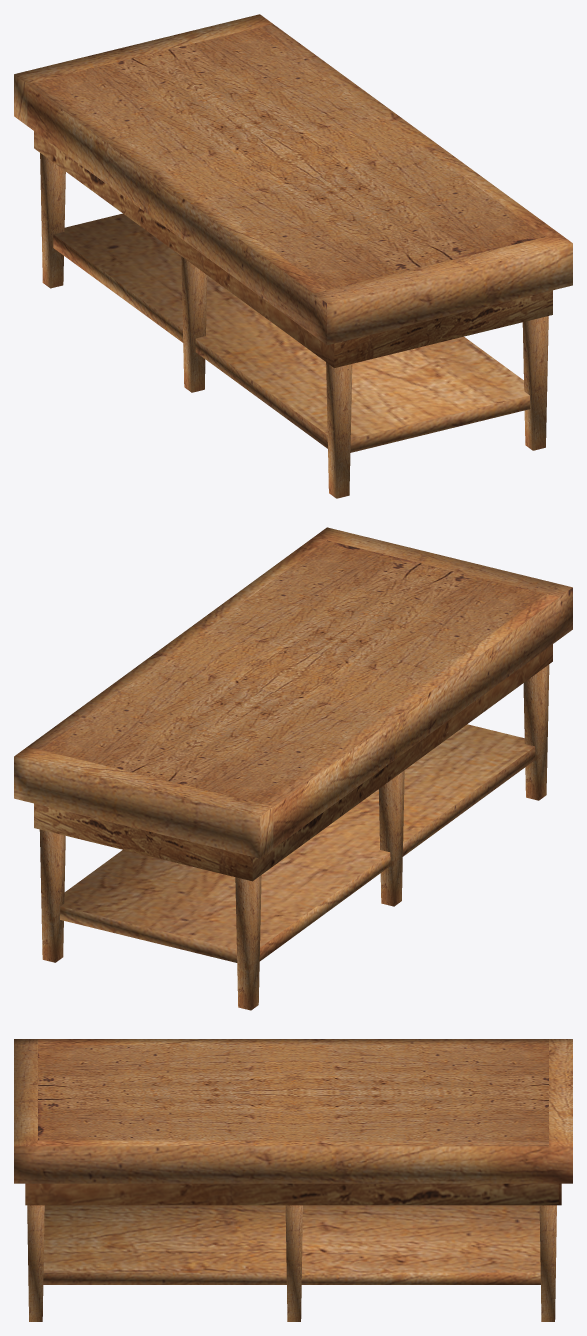
File: Table_rough.fbx
3 renders of one model, top to bottom at view 1: azimuth 30°, elevation 25°; view 2: azimuth 150°, elevation 25°; view 3: azimuth 270°, elevation 25°, orthographic. The views are drawn at different scales.
Parts seen in each view (by area): view 1: WorkTable; view 2: WorkTable; view 3: WorkTable.
Boxes of the visible parts, x1,y1,x2,y2 form: WorkTable: [14, 14, 572, 498]; WorkTable: [14, 527, 572, 1010]; WorkTable: [14, 1039, 572, 1321].
Bounding box in the file's own units: 90.71 × 72.6 × 200.
